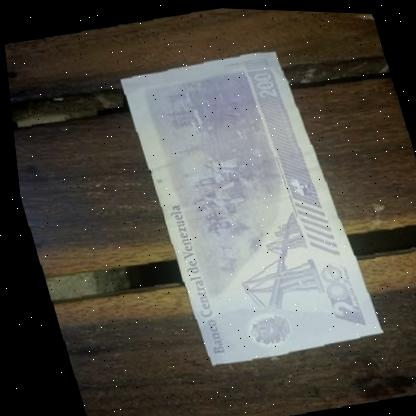two_hundred-back-vef: (113, 38, 381, 372)
